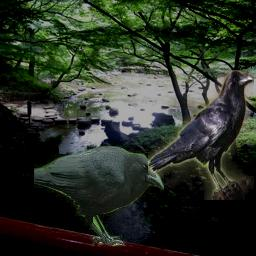Crow: (148, 70, 254, 200), (34, 146, 164, 247)
